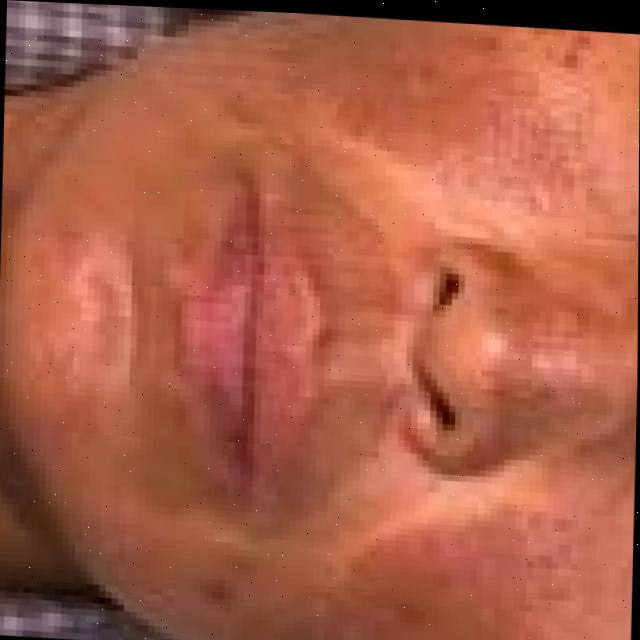Melasma: (341, 25, 579, 203), (315, 491, 583, 640)
